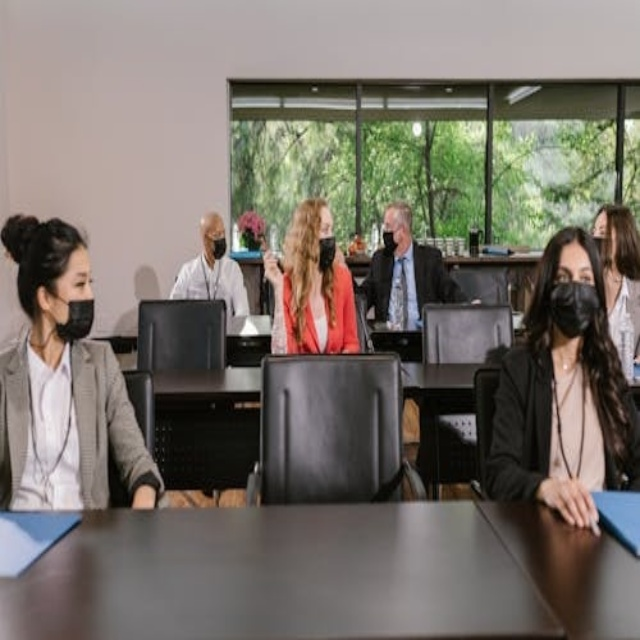Mascara: (549, 282, 601, 337), (55, 299, 95, 343), (318, 237, 336, 271), (382, 230, 400, 253), (210, 237, 227, 259)
Sin_gafas: (52, 263, 99, 290), (553, 263, 596, 281), (314, 215, 338, 234)
Sin_guantes: (545, 479, 601, 531)
